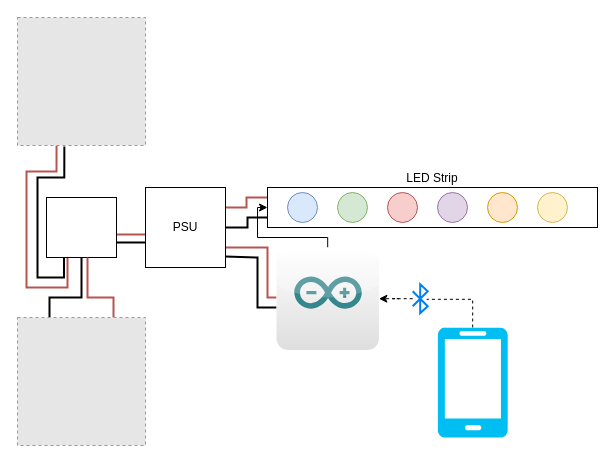
Some shapes in this 615 by 463 pixel diagram are drawn without their labels. Grey dashed boxes stand in for pictures. Here are the shapes that lost their labels. From the top down, the centre of each, then its label:
At pixel 81 227: "MPPT".
At pixel 327 298: "Arduino".
